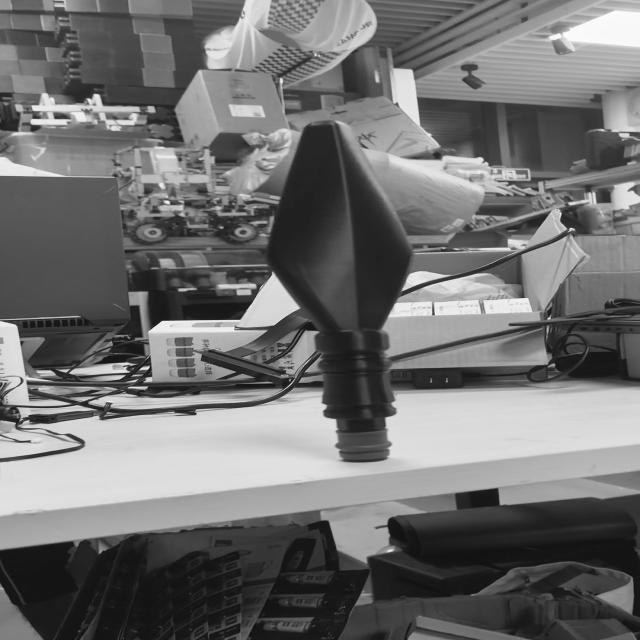base: (332, 430, 392, 463)
